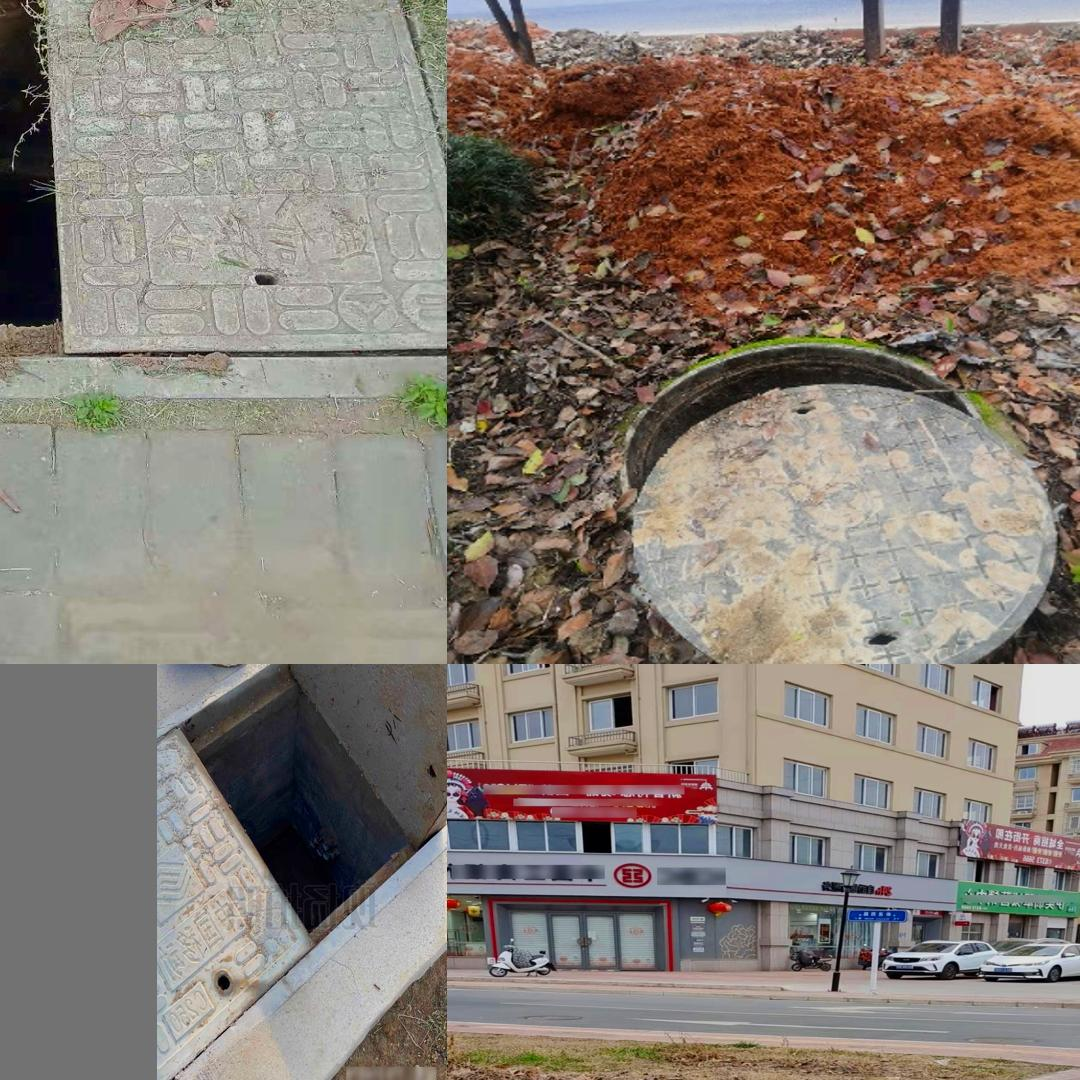uncovered: (0, 0, 433, 391), (614, 333, 1055, 664), (157, 664, 445, 1080)
